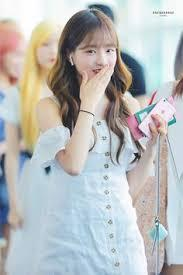earphone: (66, 53, 77, 70)
